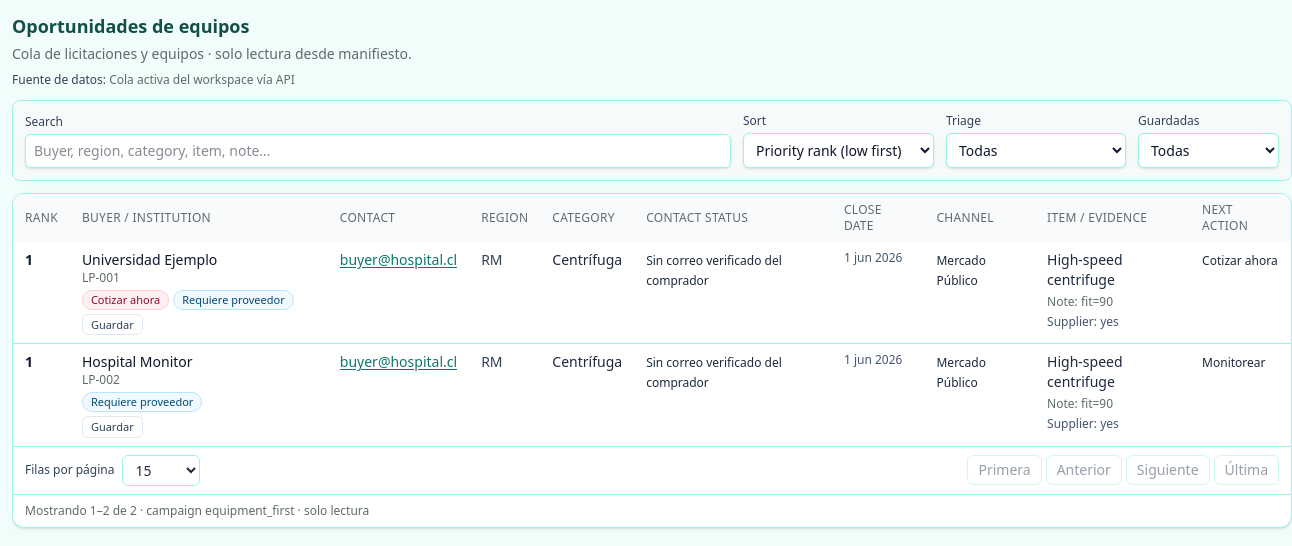
Test case: EquipmentOpportunitiesTable › filters rows when Cotizar ahora triage is selected
Select "Cotizar ahora" in the dropdown named "Filter equipment opportunities by triage" at (1036, 150), box [946,133,1126,168]
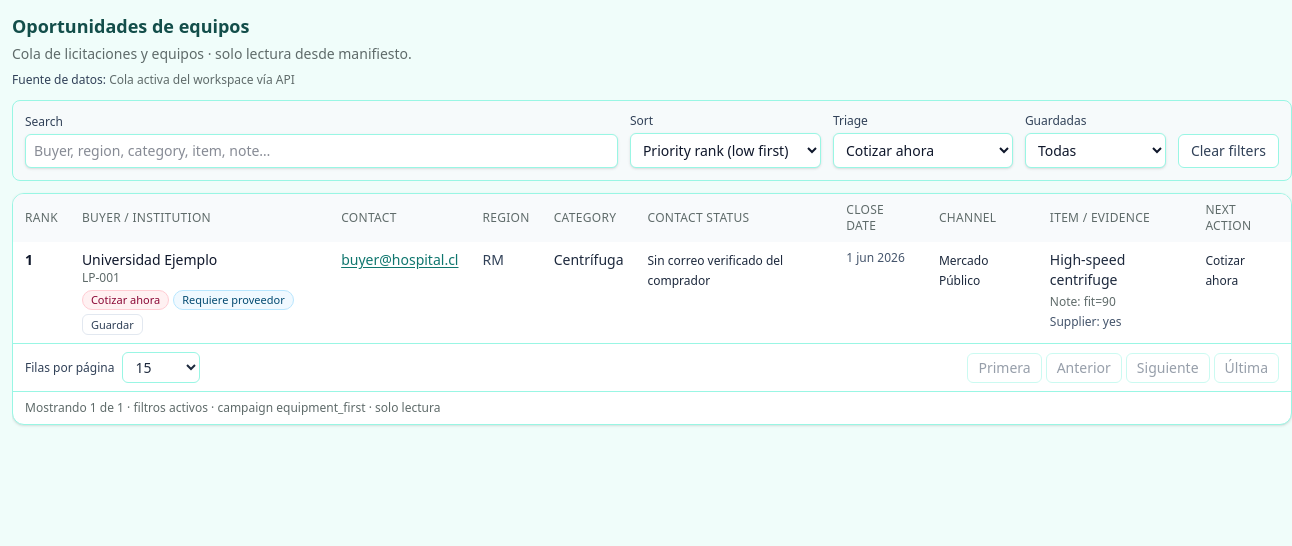
Expected: the text "Universidad Ejemplo" is shown, [82,250,217,269]
Expected: the button "Hospital Monitor" is gone
